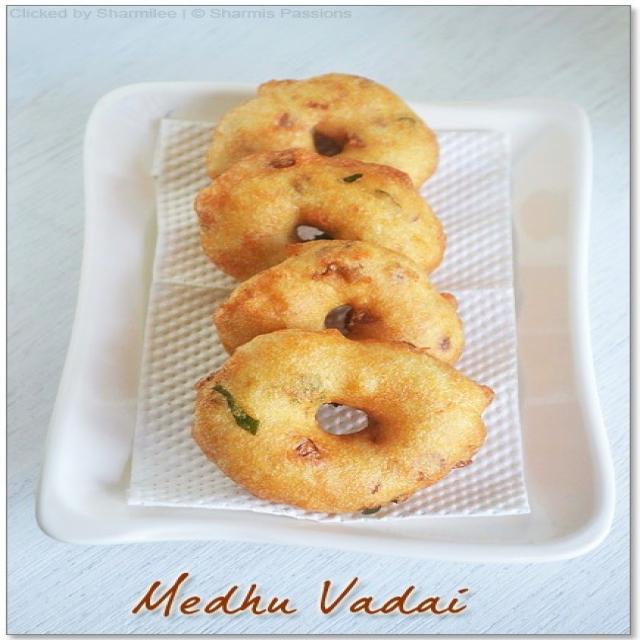medu vadai: (177, 74, 513, 526)
